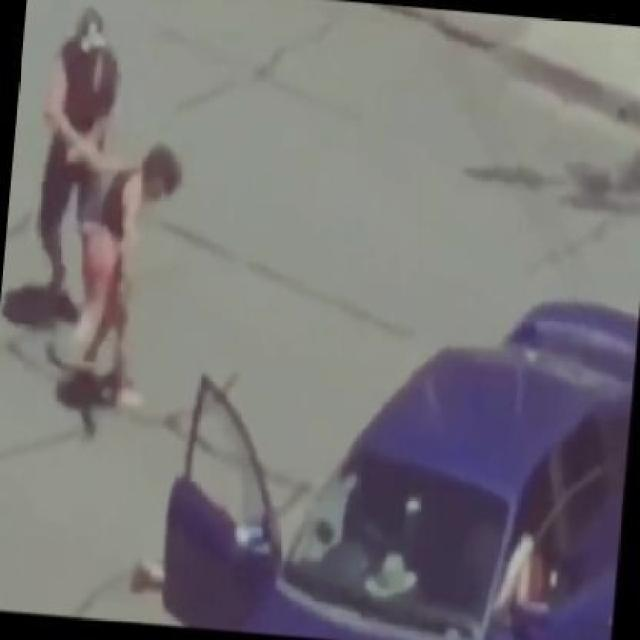fight: (0, 0, 215, 440)
